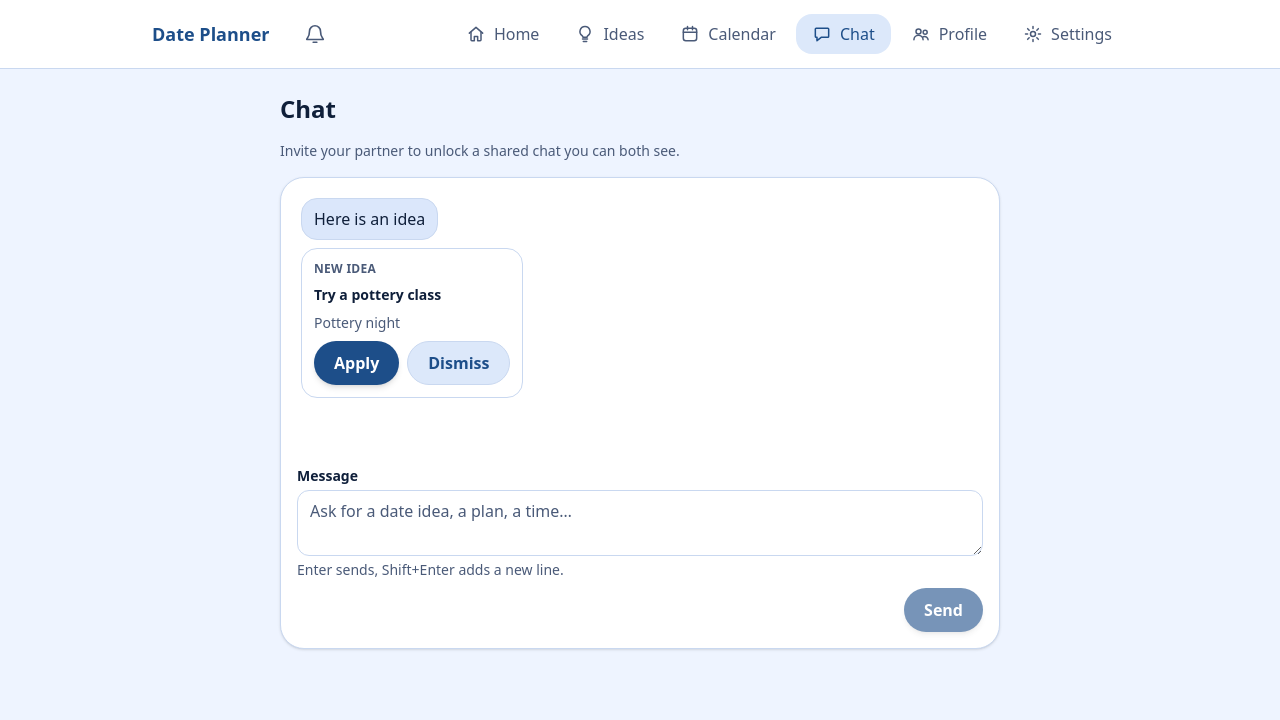
ChatPage action cards › says only the planner can change the date on a 403
Click the button "Apply".
click(357, 363)  # box [314,341,399,385]
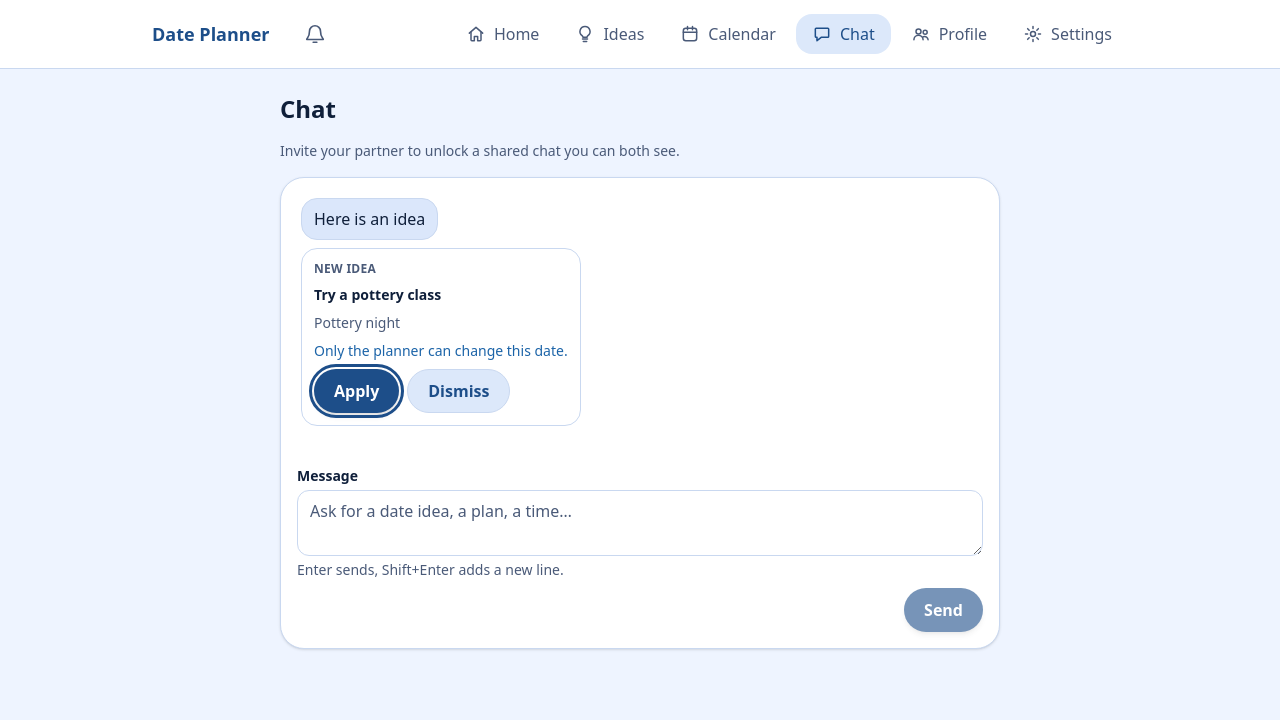
Check: the button "Apply" is enabled, box [314,369,399,413]
Check: the message reads "Only the planner can change this date.", box [314,341,568,360]
